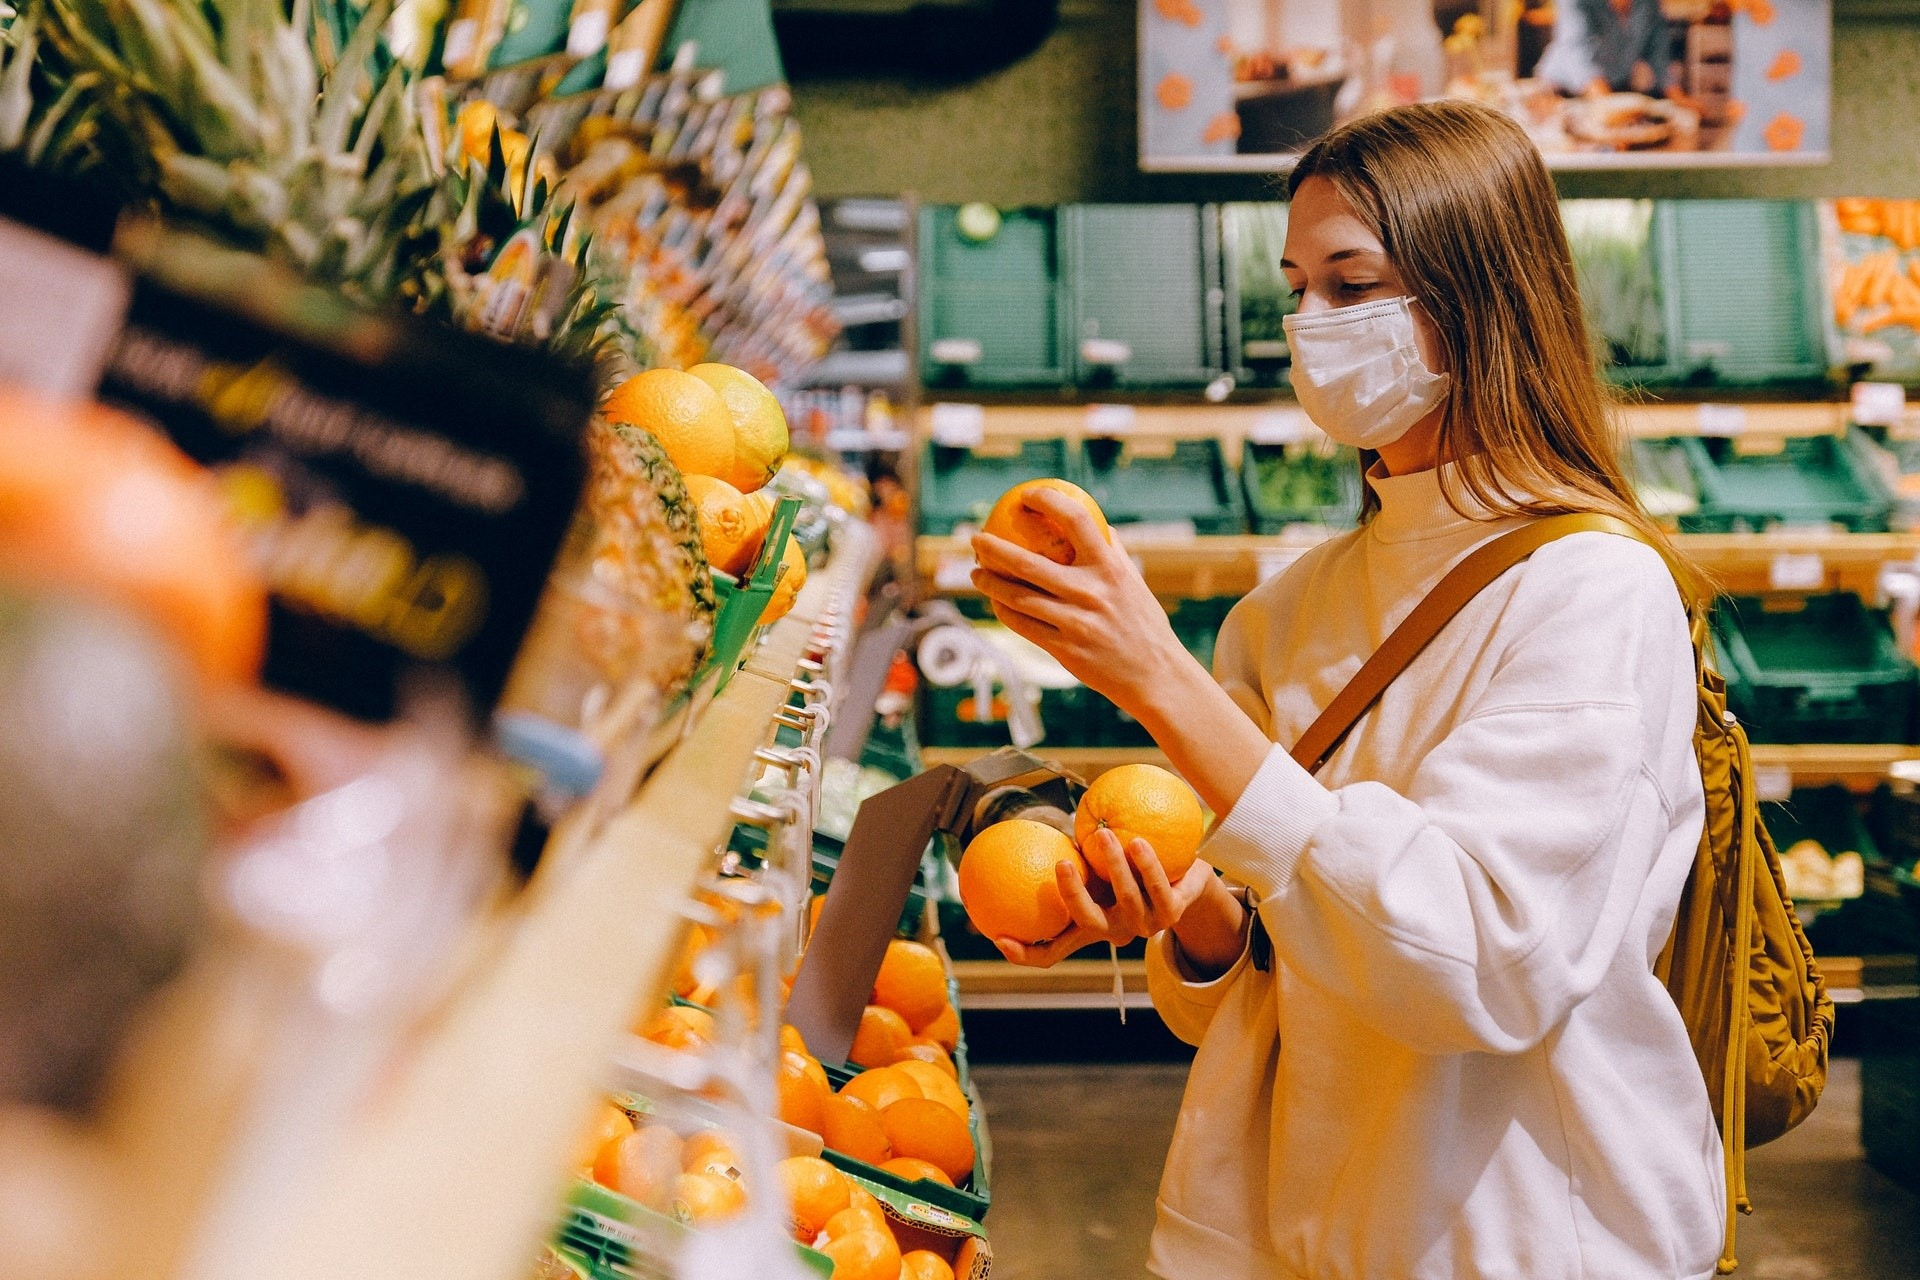face_with_mask: (1270, 94, 1569, 452)
